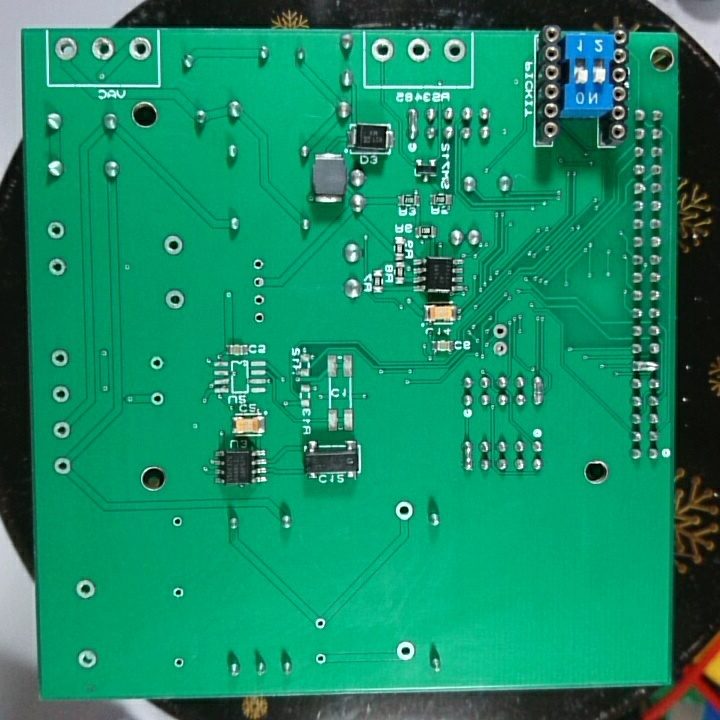F: (88, 33, 117, 64), (405, 35, 433, 67), (52, 32, 81, 62), (125, 35, 153, 63), (368, 35, 396, 63), (440, 36, 467, 64), (161, 232, 185, 259), (74, 647, 99, 672), (73, 577, 99, 601), (48, 384, 76, 406), (393, 498, 417, 522), (44, 218, 67, 243), (46, 255, 69, 280), (162, 289, 186, 312), (393, 639, 416, 662), (50, 456, 73, 478), (50, 420, 73, 442), (48, 347, 71, 368), (147, 389, 167, 410), (147, 353, 166, 373), (491, 321, 510, 339), (491, 339, 507, 358), (171, 654, 187, 672), (170, 512, 184, 532), (170, 585, 187, 600), (252, 292, 267, 308), (313, 615, 327, 632), (313, 651, 327, 667), (251, 256, 265, 272), (252, 275, 267, 289), (251, 309, 265, 324)
P: (405, 106, 421, 142), (460, 437, 474, 477), (530, 372, 545, 409), (630, 358, 661, 375)
